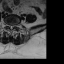CCS_normal: (10, 23, 12, 31)
LFS_stenosis: (13, 22, 15, 28)
LLS_normal: (12, 22, 13, 30)
RFS_stenosis: (7, 22, 9, 28)
RLS_normal: (9, 22, 10, 30)
